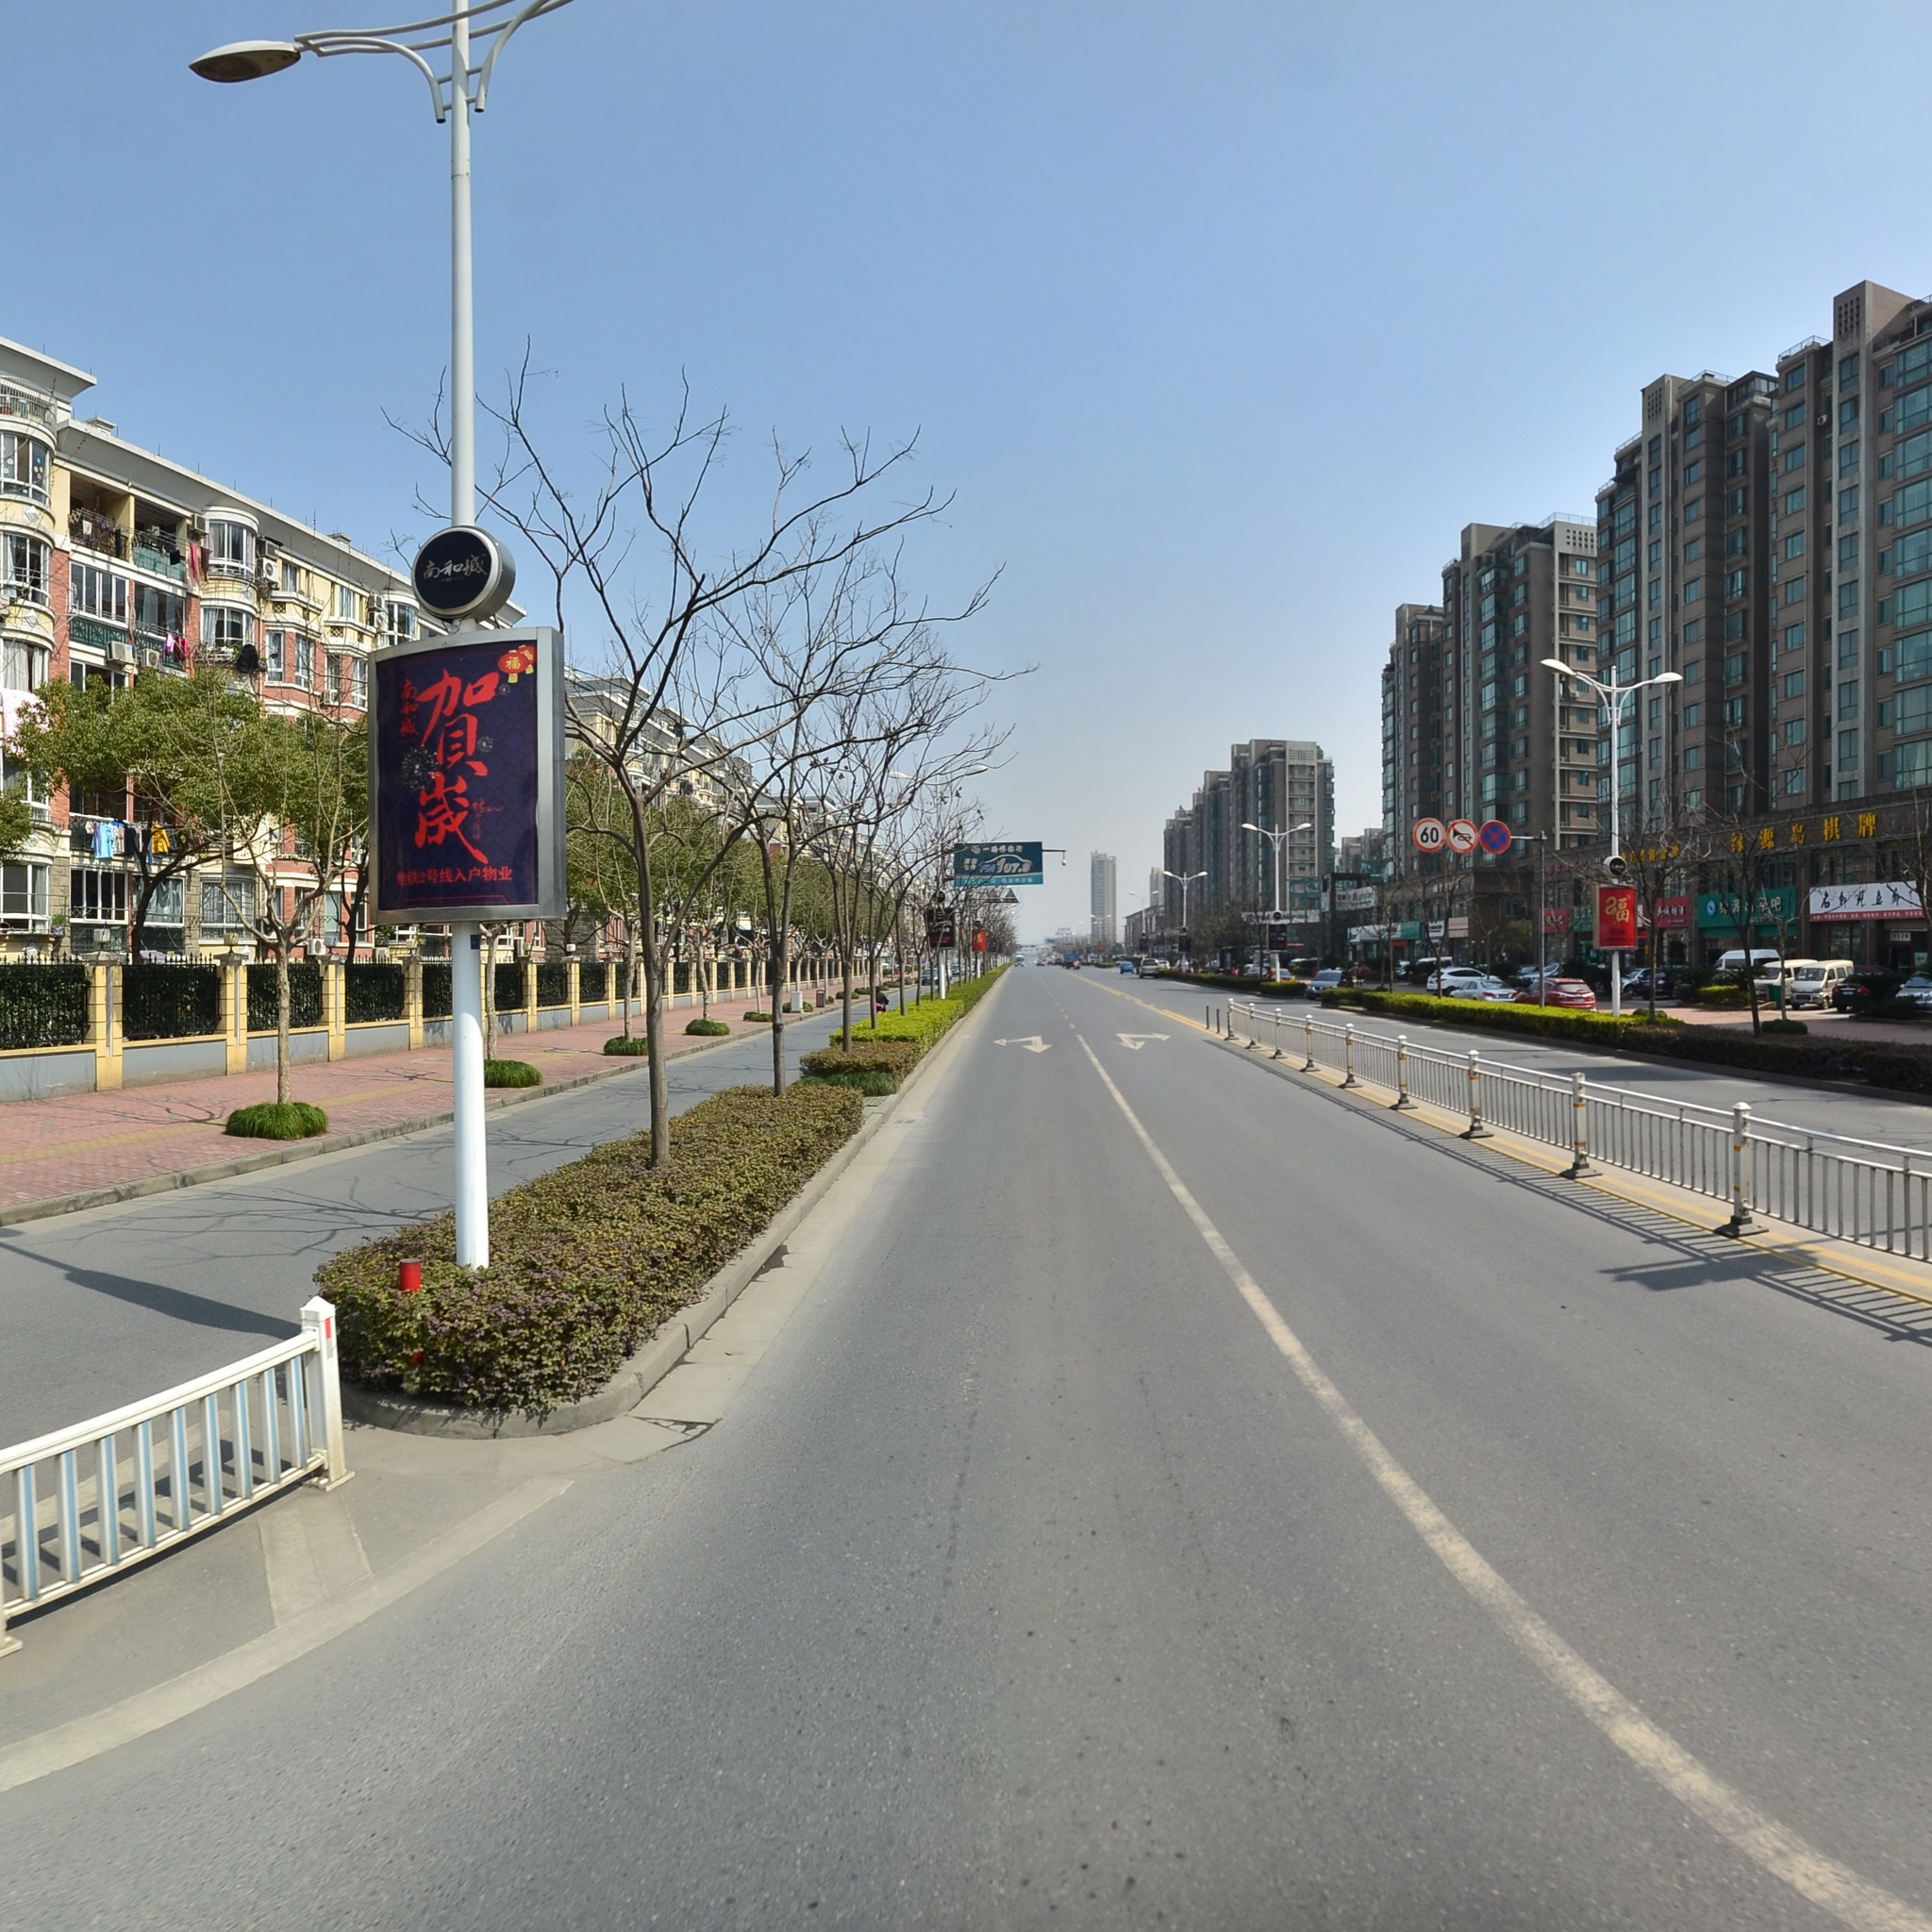traffic_sign: (1410, 816, 1447, 855), (1477, 817, 1511, 855), (1445, 817, 1479, 853)
